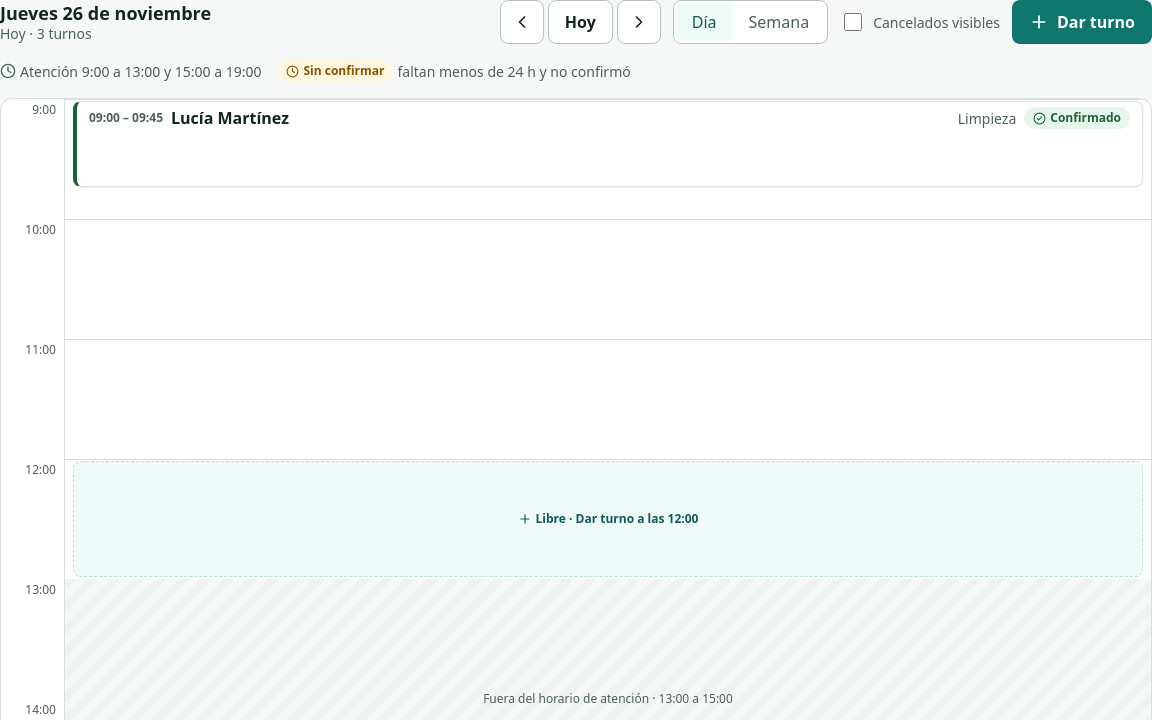
Test: dar turno › para un paciente existente: busca, elige y crea el turno en la zona del consultorio
The width and height of the screenshot is (1152, 720).
Check: the element "Día Semana" is shown, box [673,0,828,44]
Click the button "Dar turno".
click(1082, 22)  # box [1012,0,1151,44]
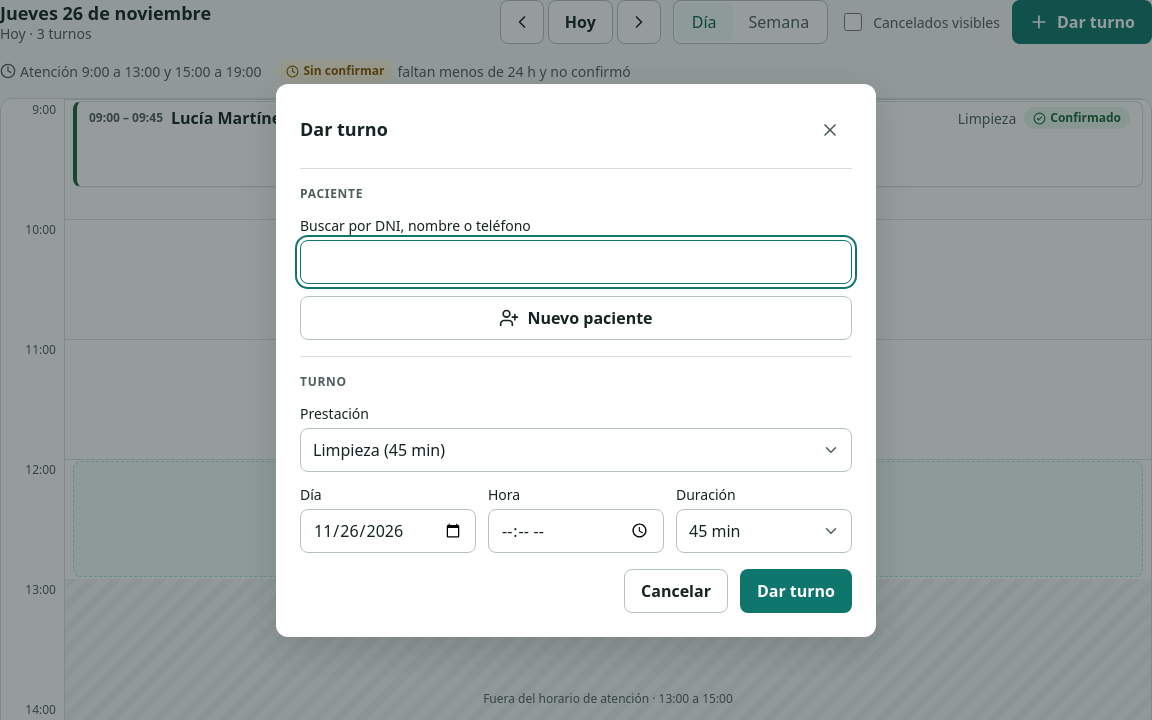
Type "Martí" into the search field labelled "Buscar por DNI, nombre o teléfono".
click(576, 262); type("Martí")  # box [300,240,852,284]
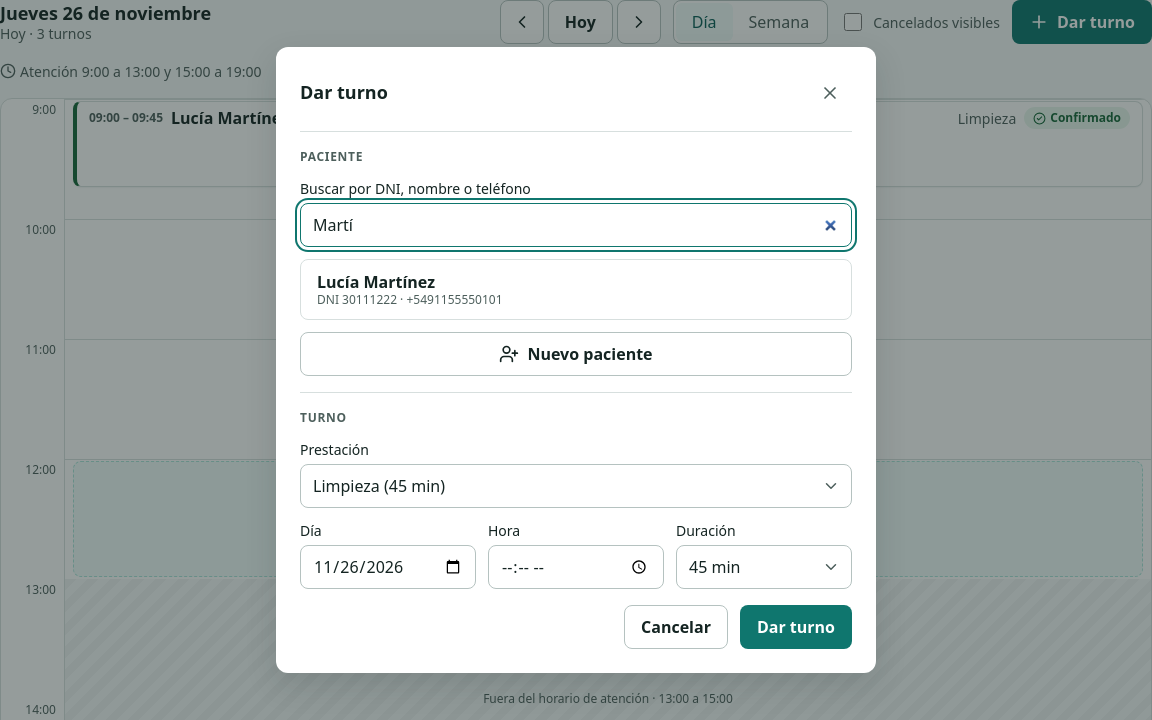
Click the button "Lucía Martínez DNI 30111222 · +5491155550101".
click(338, 282)  # box [305,264,847,315]
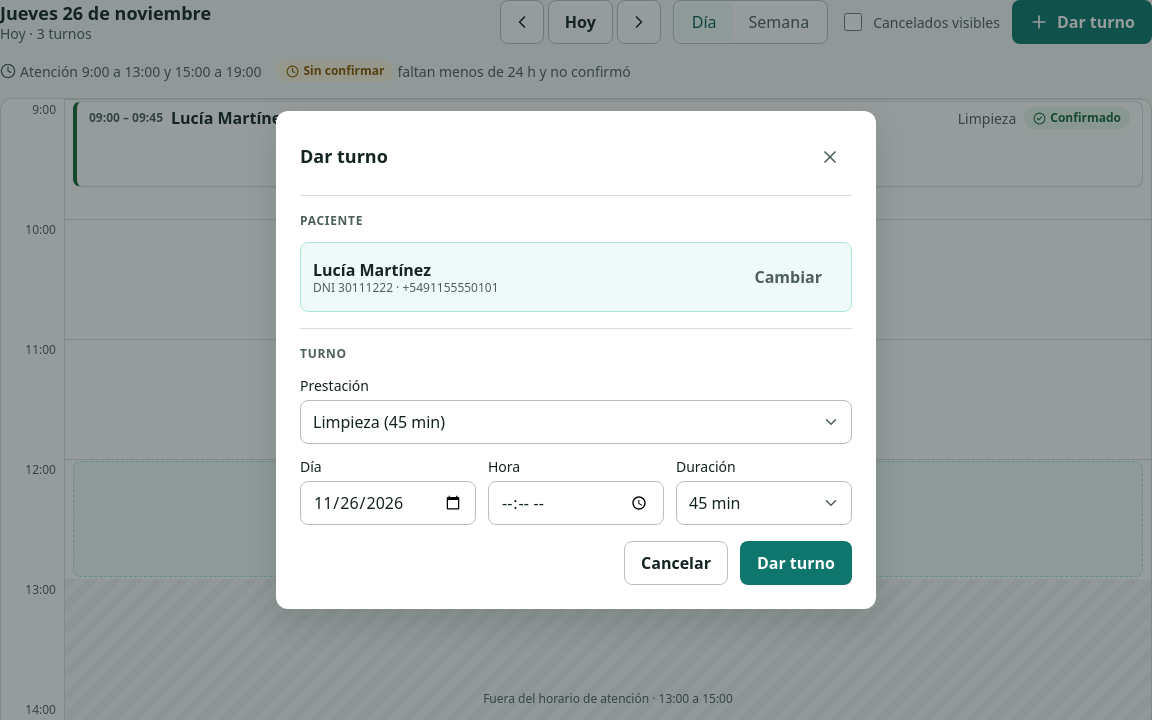
Type "12:00" into the time field labelled "Hora".
click(576, 503); type("12:00")  # box [488,481,664,525]
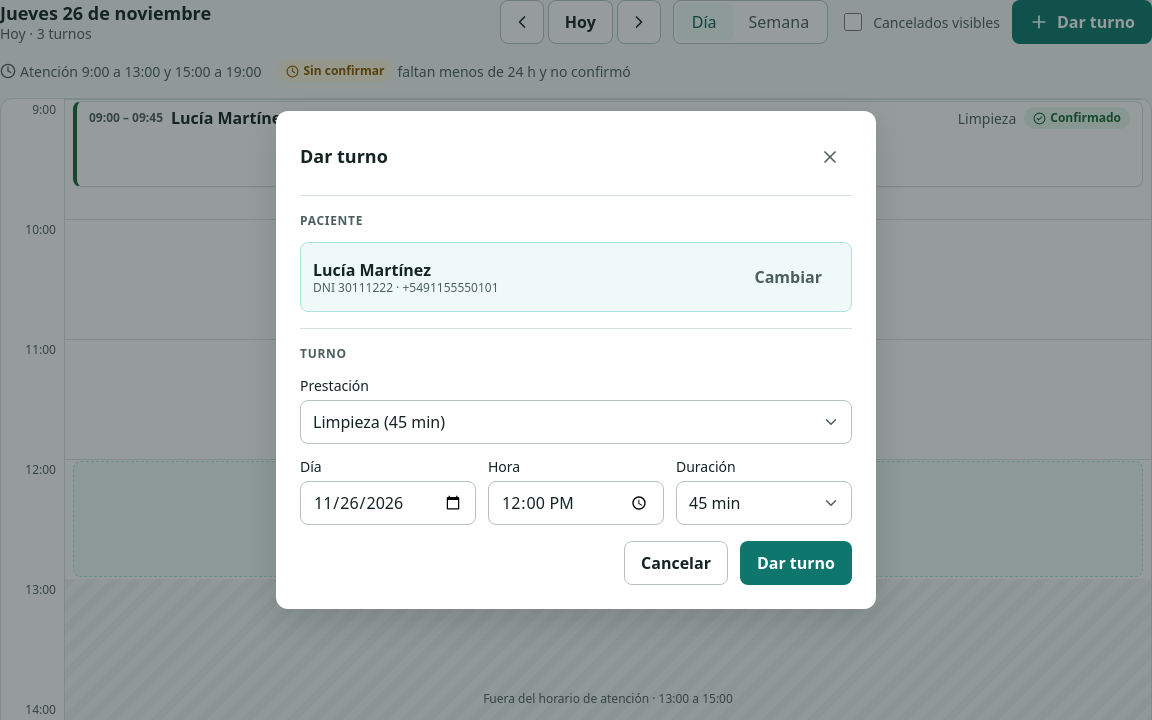
Click the button "Dar turno".
click(796, 563)  # box [740,541,852,585]
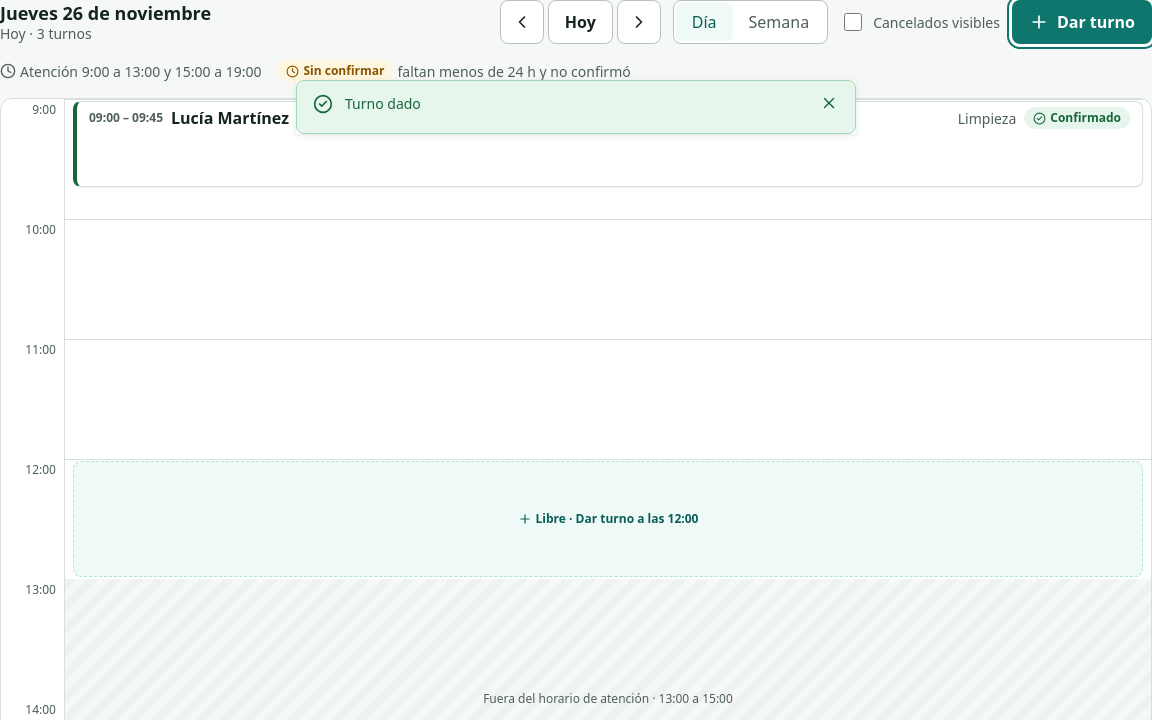
Check: the text "Turno dado" is shown, box [345,94,421,113]
